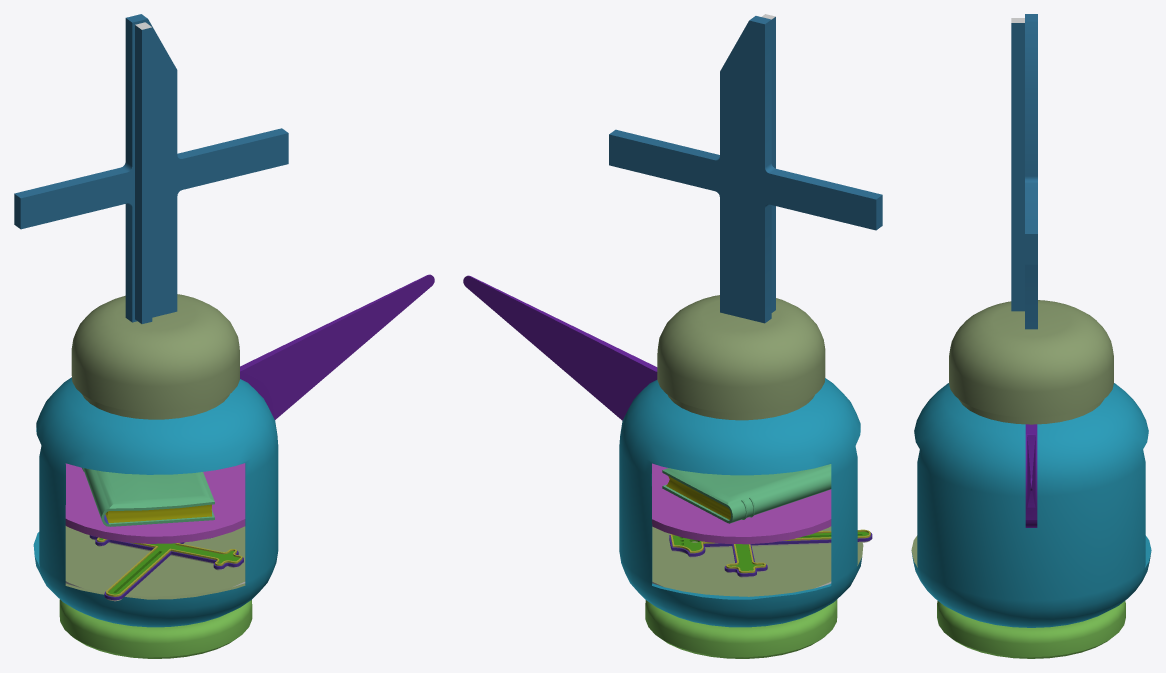
The model's file is Misc_09.fbx.
3 views of the same model, side by side, from view 1: azimuth 30°, elevation 25°; view 2: azimuth 150°, elevation 25°; view 3: azimuth 270°, elevation 25° (orthographic). The views are drawn at different scales.
Parts seen in each view (by area): view 1: SetA_Misc_09; view 2: SetA_Misc_09; view 3: SetA_Misc_09.
Boxes of the visible parts, bbox=[...] form: SetA_Misc_09: bbox=[14, 14, 434, 658]; SetA_Misc_09: bbox=[463, 14, 882, 658]; SetA_Misc_09: bbox=[911, 14, 1151, 658].
Size of the model in its own units: 0.3017 by 0.4193 by 0.1536.
